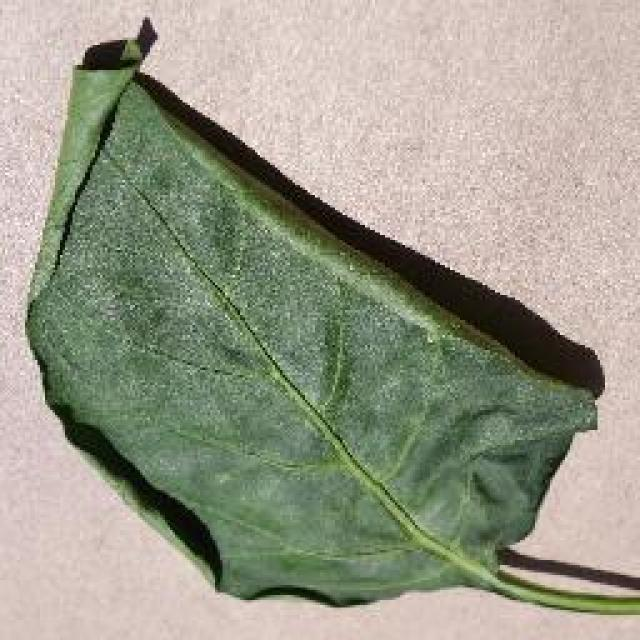Chilli_Healthy: (20, 15, 638, 617)
